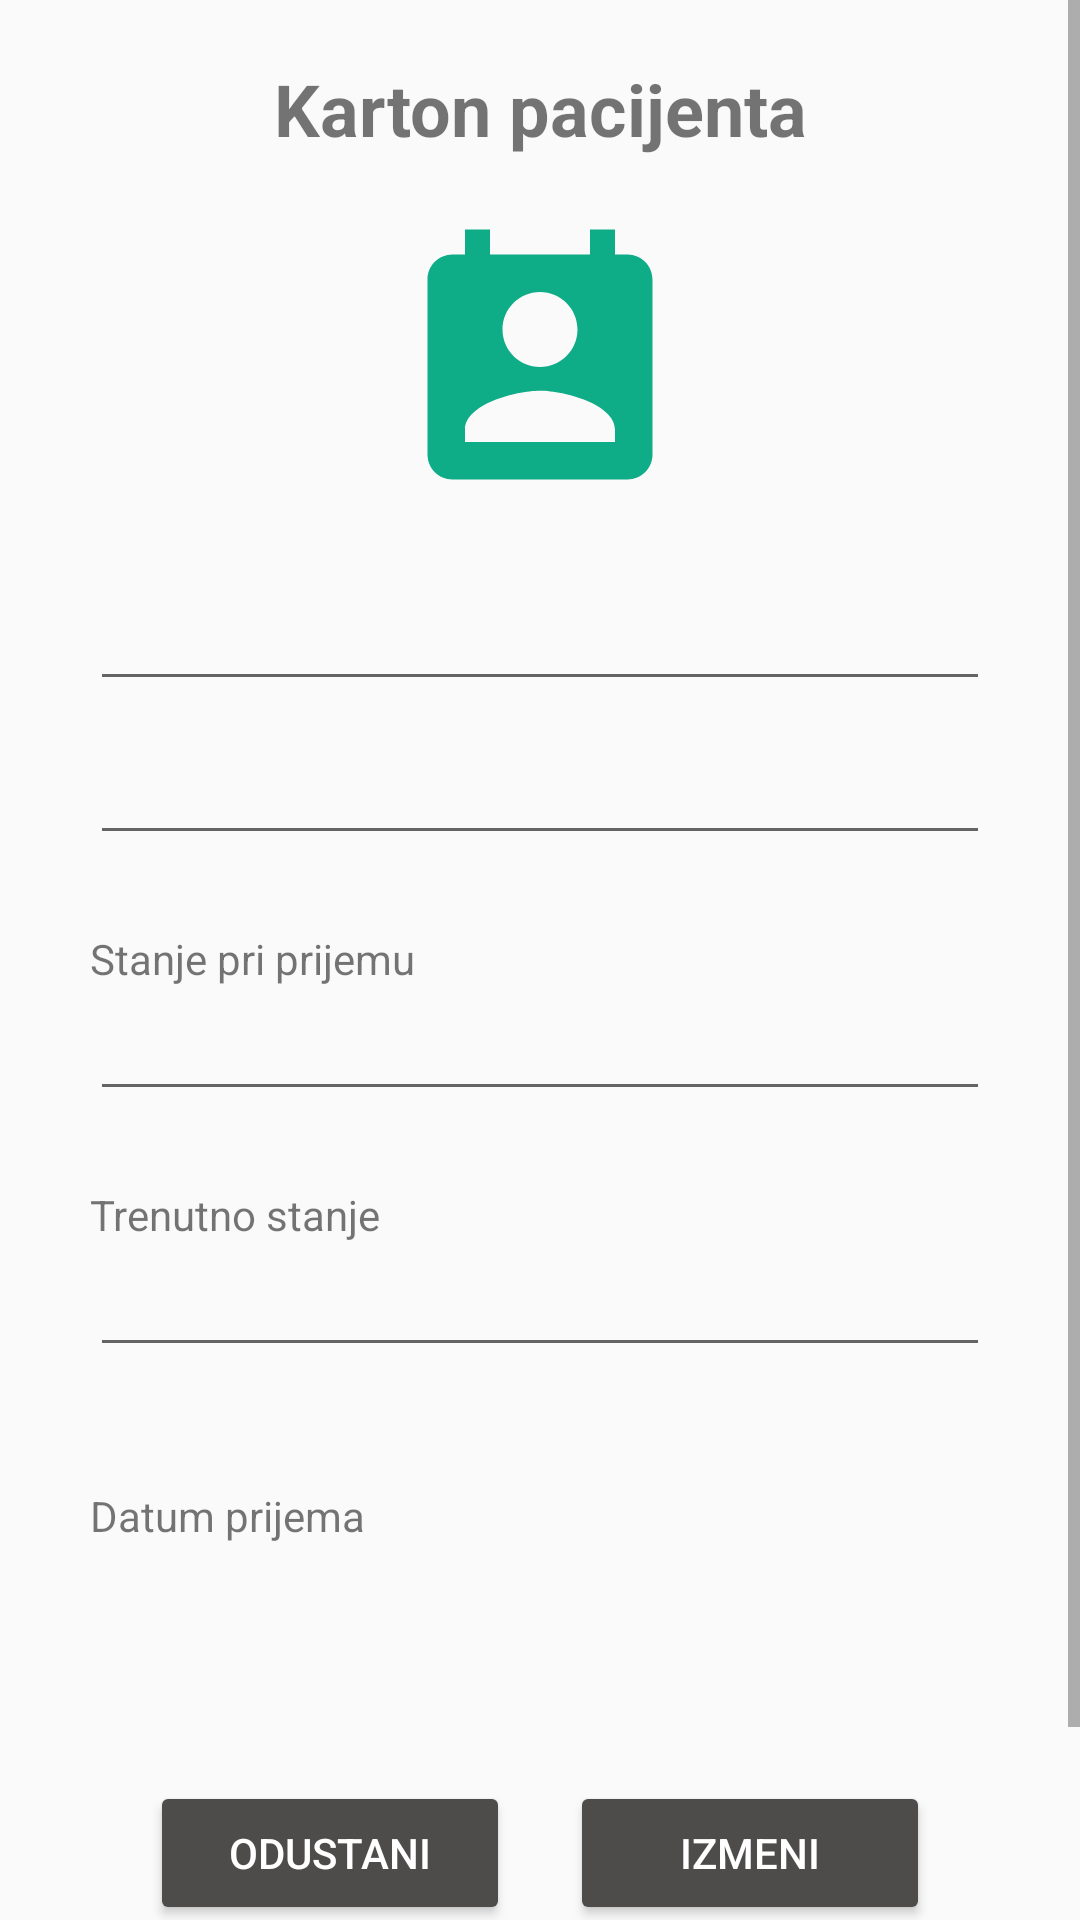

Screen size 1080×1920. Icon name, then its center in pixels as (x,y):
patient file: (540,354)
